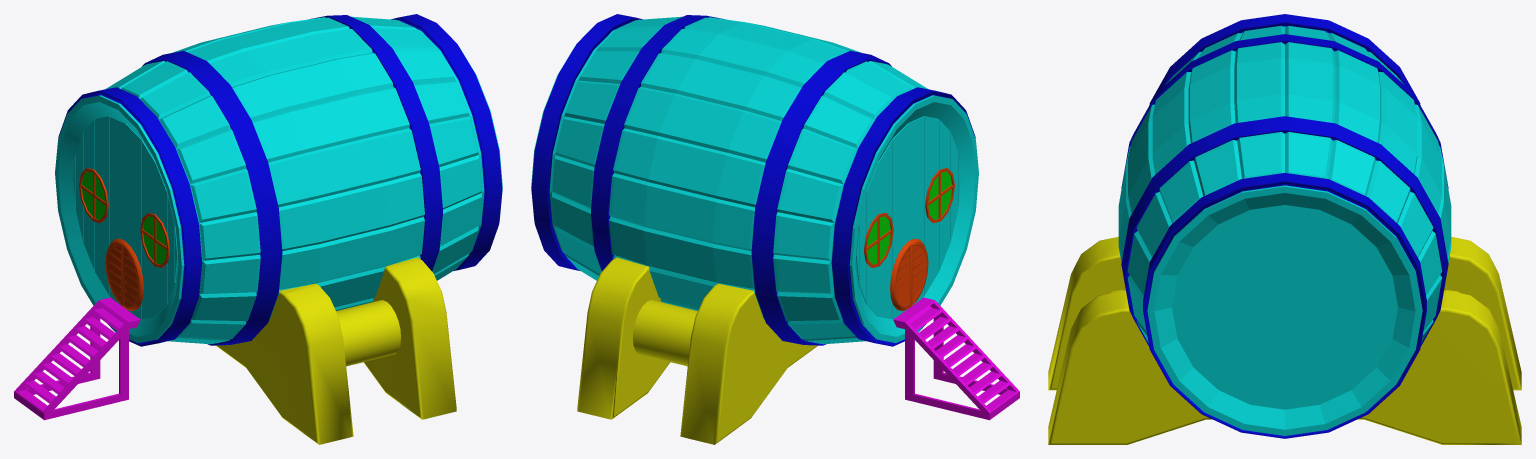
Rendered from BarrelBuilding.fbx.
3 renders of one model, left to right at view 1: azimuth 30°, elevation 25°; view 2: azimuth 150°, elevation 25°; view 3: azimuth 270°, elevation 25°, orthographic. The views are drawn at different scales.
Visible parts, largest first — view 1: BarrelHouse_BarrelHouse; view 2: BarrelHouse_BarrelHouse; view 3: BarrelHouse_BarrelHouse.
Part boxes in pixels (left/top/right/bottom): BarrelHouse_BarrelHouse: left=14, top=14, right=502, bottom=444; BarrelHouse_BarrelHouse: left=531, top=14, right=1019, bottom=444; BarrelHouse_BarrelHouse: left=1048, top=14, right=1521, bottom=444.
Size of the model in its own units: 16.71 by 11.95 by 15.4.
